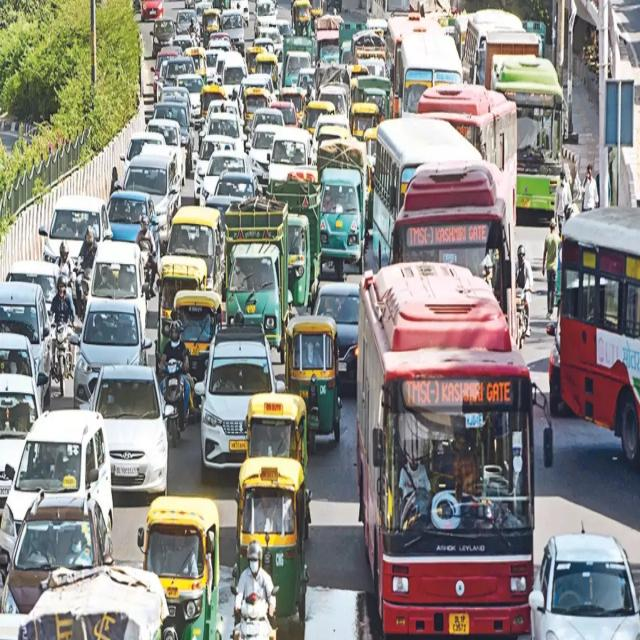Vehicles: (352, 259, 540, 637), (368, 116, 514, 298), (18, 406, 125, 598), (194, 328, 292, 507), (231, 447, 321, 619), (94, 345, 173, 524), (536, 523, 640, 640), (489, 62, 563, 223), (144, 496, 223, 640), (75, 284, 146, 412), (223, 218, 290, 344), (316, 148, 371, 272), (315, 274, 370, 392), (51, 197, 116, 293), (0, 272, 58, 378), (273, 183, 318, 317), (0, 322, 46, 423), (177, 204, 232, 282), (200, 124, 255, 200), (107, 188, 160, 264), (263, 119, 320, 189), (157, 350, 193, 450), (336, 23, 384, 84), (135, 129, 176, 195), (154, 85, 199, 133), (288, 40, 320, 98), (215, 11, 256, 55), (248, 122, 289, 164), (50, 327, 76, 392), (149, 11, 185, 53), (346, 115, 383, 149), (289, 0, 318, 38), (221, 50, 249, 87), (515, 284, 532, 344), (258, 44, 282, 80), (155, 52, 187, 77)
